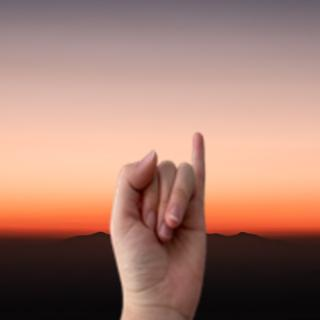Fine: (105, 123, 227, 310)
